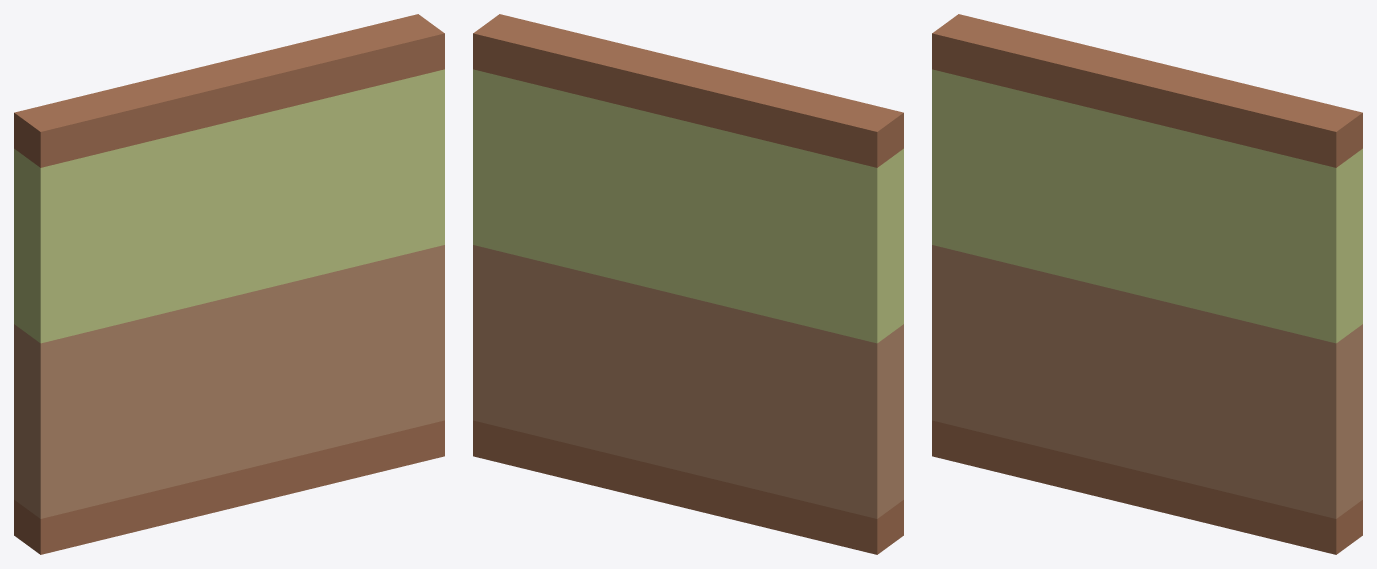
File: Wall_hallway.fbx
The picture shows the model from 3 angles, left to right: view 1: azimuth 30°, elevation 25°; view 2: azimuth 150°, elevation 25°; view 3: azimuth 330°, elevation 25°; orthographic projection.
Parts seen in each view (by area): view 1: Wall_hallway; view 2: Wall_hallway; view 3: Wall_hallway.
Boxes of the visible parts, x1,y1,x2,y2 form: Wall_hallway: (14, 14, 444, 554); Wall_hallway: (473, 14, 903, 554); Wall_hallway: (932, 14, 1362, 554).
Size of the model in its own units: 200 by 200 by 22.72.
